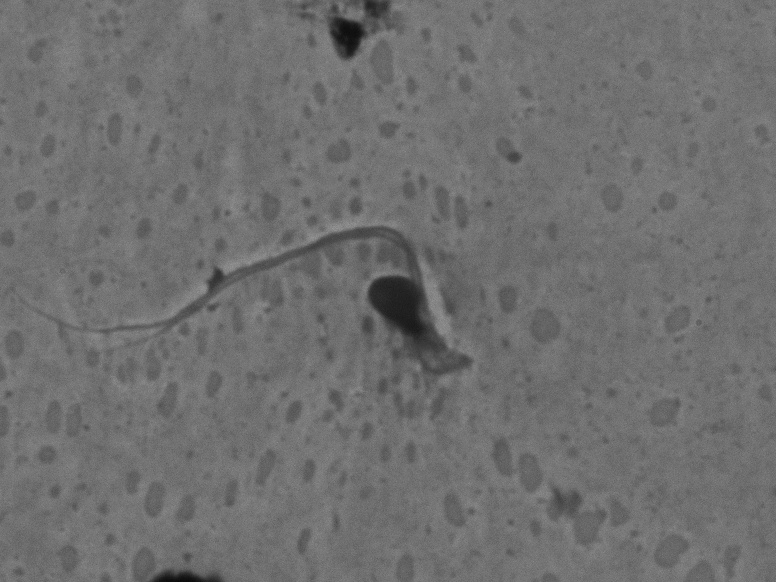Abnormal: (13, 198, 462, 423)
